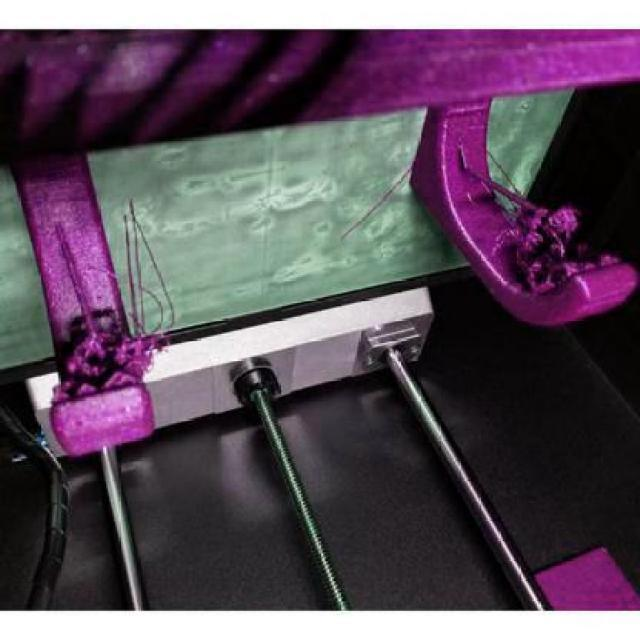spaghetti: (56, 200, 175, 399), (495, 206, 621, 294)
